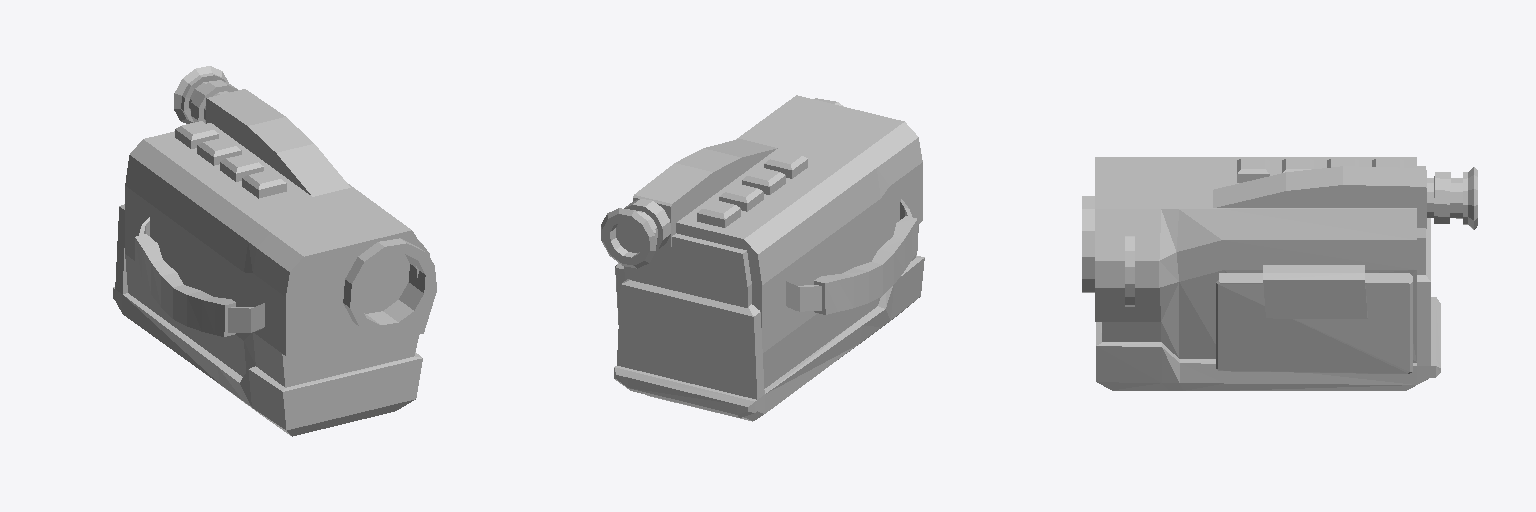
Rendered from camcordernew.obj.
3 renders of one model, left to right at view 1: azimuth 30°, elevation 25°; view 2: azimuth 150°, elevation 25°; view 3: azimuth 270°, elevation 25°, orthographic.
Visible parts, largest first — view 1: Cube; view 2: Cube; view 3: Cube, Cube.001.
Part boxes in pixels (bbox=[...]): Cube: bbox=[113, 66, 436, 436]; Cube: bbox=[601, 95, 924, 421]; Cube: bbox=[1082, 157, 1477, 390]; Cube.001: bbox=[1216, 265, 1412, 373].
Size of the model in its own units: 2.72 by 2.82 by 4.72.